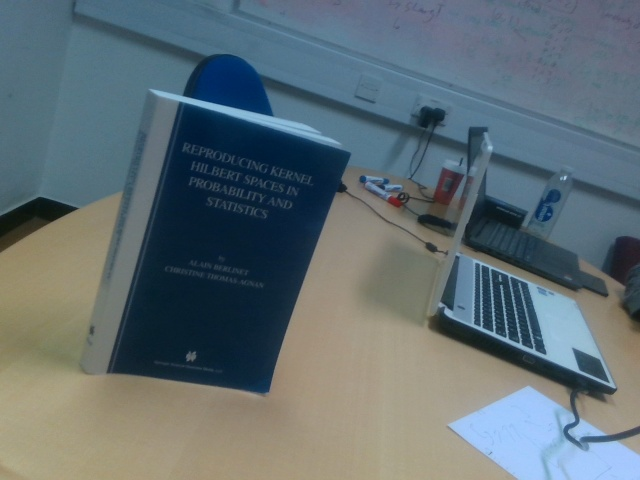book: (80, 86, 350, 395)
